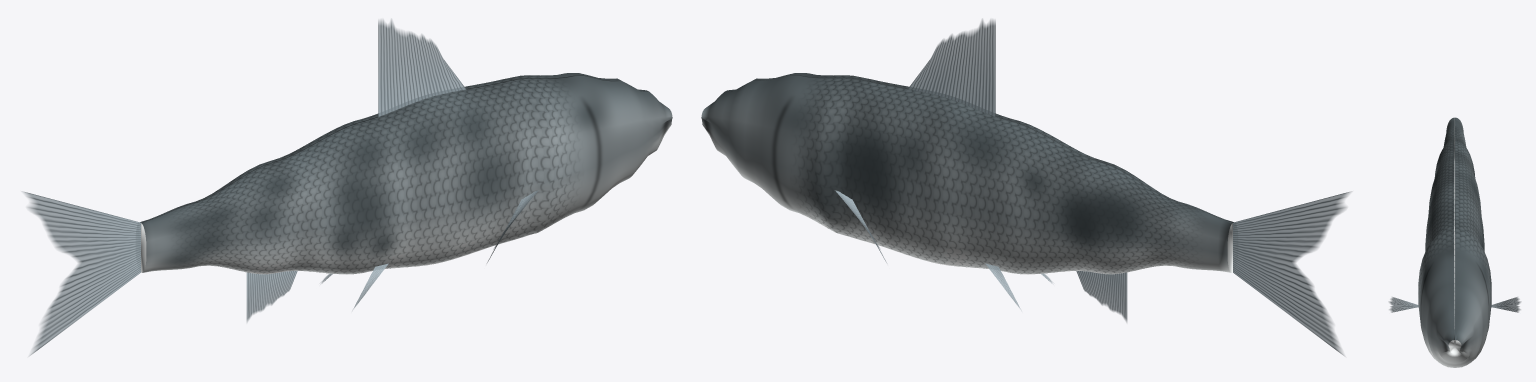
File: dongpeshona.glb
3 renders of one model, left to right at view 1: azimuth 30°, elevation 25°; view 2: azimuth 150°, elevation 25°; view 3: azimuth 270°, elevation 25°, orthographic. The views are drawn at different scales.
Visible parts, largest first — view 1: dongpeshona; view 2: dongpeshona; view 3: dongpeshona.
Boxes of the visible parts, x1=… form: dongpeshona: x1=22, y1=19, x2=672, y2=355; dongpeshona: x1=701, y1=19, x2=1351, y2=355; dongpeshona: x1=1389, y1=117, x2=1520, y2=367.
Bounding box in the file's own units: 0.744 × 0.3032 × 0.1608.
Materials: 1 (1 with a texture image).
